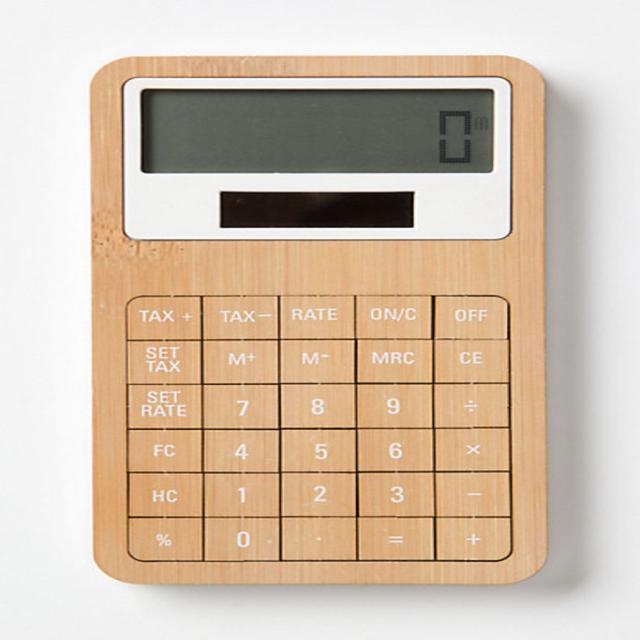Calculator: (80, 51, 548, 586)
